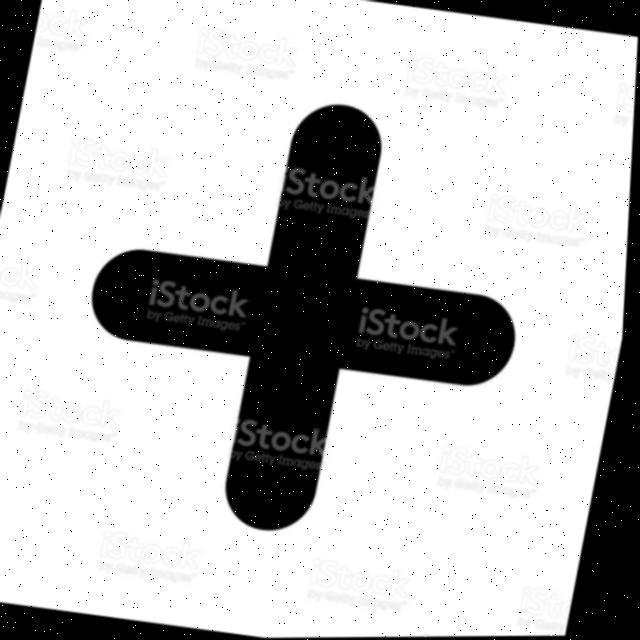cross: (73, 65, 554, 557)
